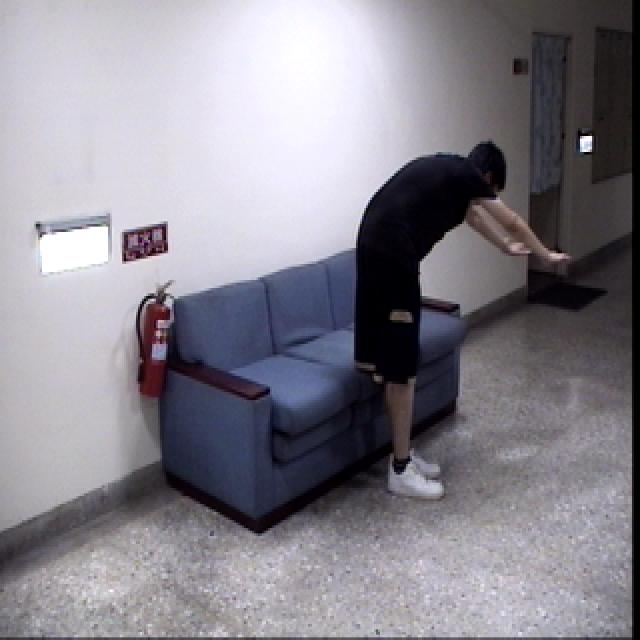bend: (353, 144, 576, 509)
